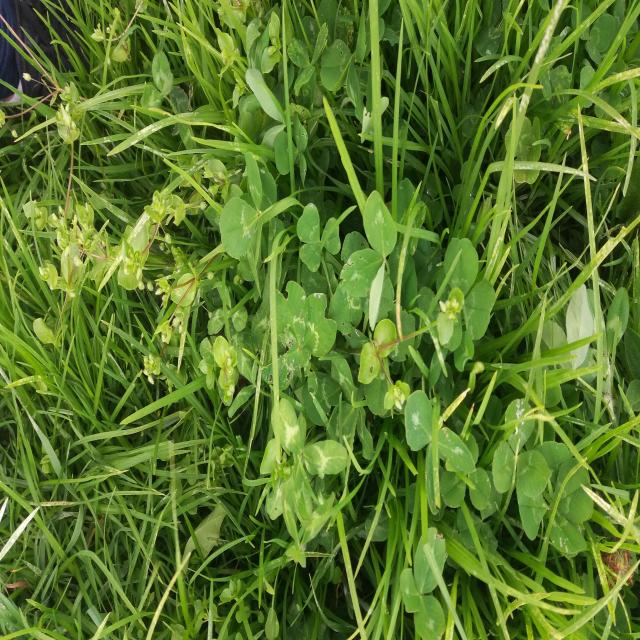Four Leaf Clover: (262, 280, 337, 396)
